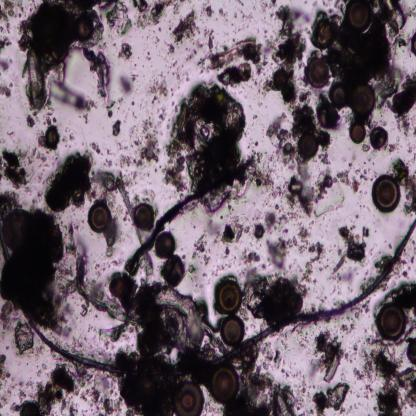Background material: (126, 145, 278, 274), (170, 82, 276, 210), (0, 190, 72, 334), (312, 2, 408, 107), (17, 0, 106, 70), (360, 333, 416, 415), (77, 369, 174, 415), (264, 3, 304, 109), (244, 266, 310, 328), (12, 362, 77, 416), (44, 148, 96, 208), (286, 168, 338, 216), (263, 113, 306, 171), (122, 115, 164, 171), (226, 369, 277, 415), (204, 35, 260, 72), (92, 163, 137, 209), (333, 225, 373, 275), (268, 230, 326, 264), (48, 74, 96, 114), (312, 324, 345, 382), (312, 96, 344, 149), (0, 142, 37, 186), (77, 372, 116, 413), (391, 67, 416, 128), (312, 379, 354, 415), (391, 159, 416, 217), (84, 48, 111, 99), (132, 0, 174, 29), (10, 317, 37, 356), (216, 63, 256, 89), (164, 154, 189, 193), (172, 10, 200, 44), (105, 1, 132, 36), (336, 165, 371, 191), (290, 105, 320, 135), (220, 217, 252, 245), (364, 126, 396, 154), (254, 211, 284, 239), (0, 352, 15, 404), (36, 124, 61, 153), (0, 0, 20, 33), (191, 234, 212, 265), (389, 282, 416, 305), (260, 340, 280, 370), (148, 74, 168, 104), (328, 274, 354, 295), (241, 243, 263, 267), (294, 375, 309, 402), (119, 72, 134, 97), (179, 41, 196, 63), (203, 27, 216, 52), (58, 126, 75, 145), (0, 79, 13, 100), (117, 43, 133, 60), (0, 56, 13, 75), (88, 136, 100, 155), (139, 48, 152, 64), (112, 116, 121, 139), (43, 112, 57, 126), (107, 100, 117, 118), (25, 112, 36, 128), (201, 5, 214, 18), (0, 35, 11, 50), (411, 30, 416, 58), (167, 43, 176, 55), (128, 99, 138, 109), (6, 130, 16, 139)
Cellulose filter fibre: (72, 254, 222, 357)
Diatom: (25, 49, 48, 110), (372, 173, 401, 214), (377, 303, 407, 341), (174, 381, 205, 415), (211, 366, 239, 402), (217, 278, 242, 315), (347, 0, 373, 32), (221, 314, 245, 346), (350, 86, 375, 116), (88, 201, 111, 232), (308, 57, 330, 88), (164, 258, 186, 287), (156, 231, 176, 262), (298, 132, 320, 158), (275, 389, 296, 414), (330, 84, 348, 112), (134, 204, 153, 229), (110, 278, 127, 299), (350, 122, 366, 144)
Microfibre: (23, 218, 416, 376)
